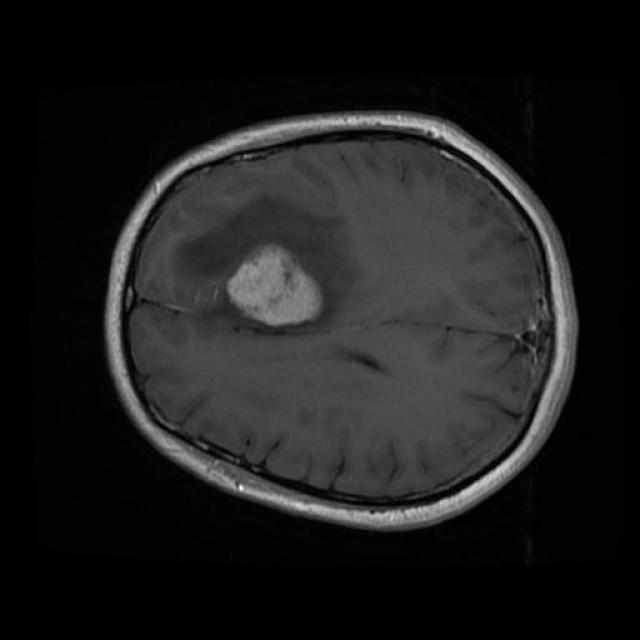Meningioma: (227, 244, 323, 326)
